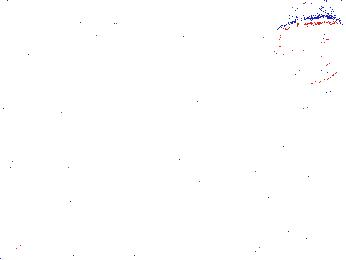moon jellyfish: (1, 5, 97, 109), (264, 13, 346, 84), (79, 23, 159, 90), (278, 80, 346, 149)
